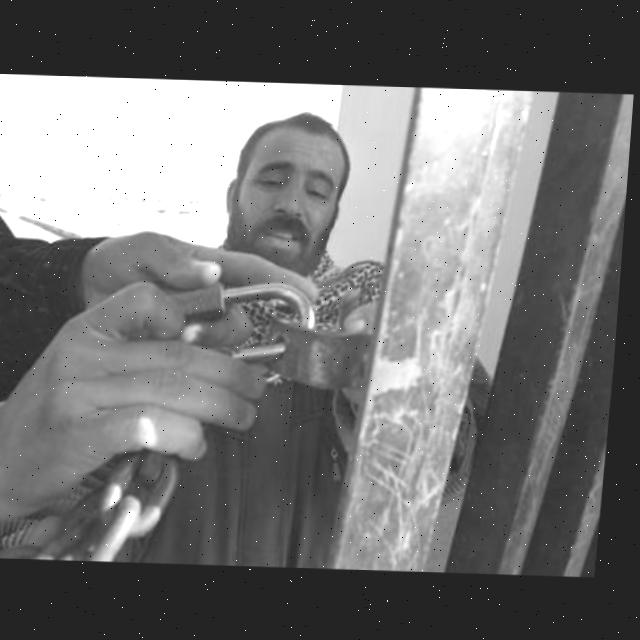face: (210, 119, 366, 278)
